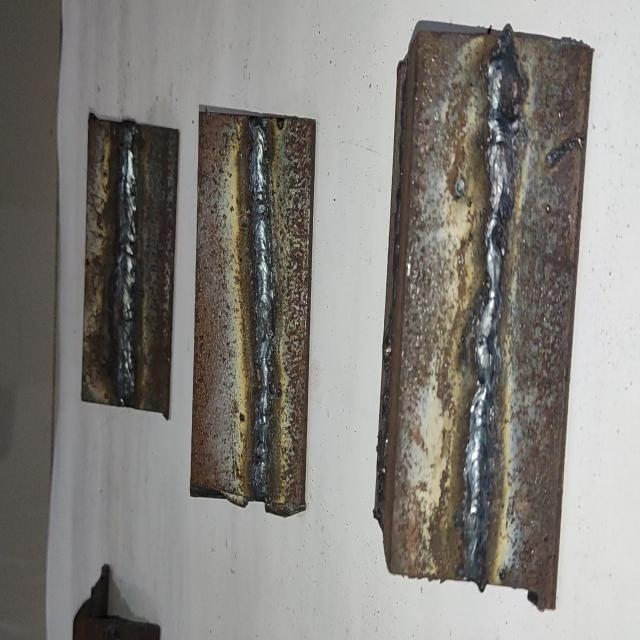Bad Weld: (462, 41, 520, 573)
Defect: (483, 39, 524, 266)
Good Weld: (249, 122, 273, 493), (113, 122, 141, 401)
